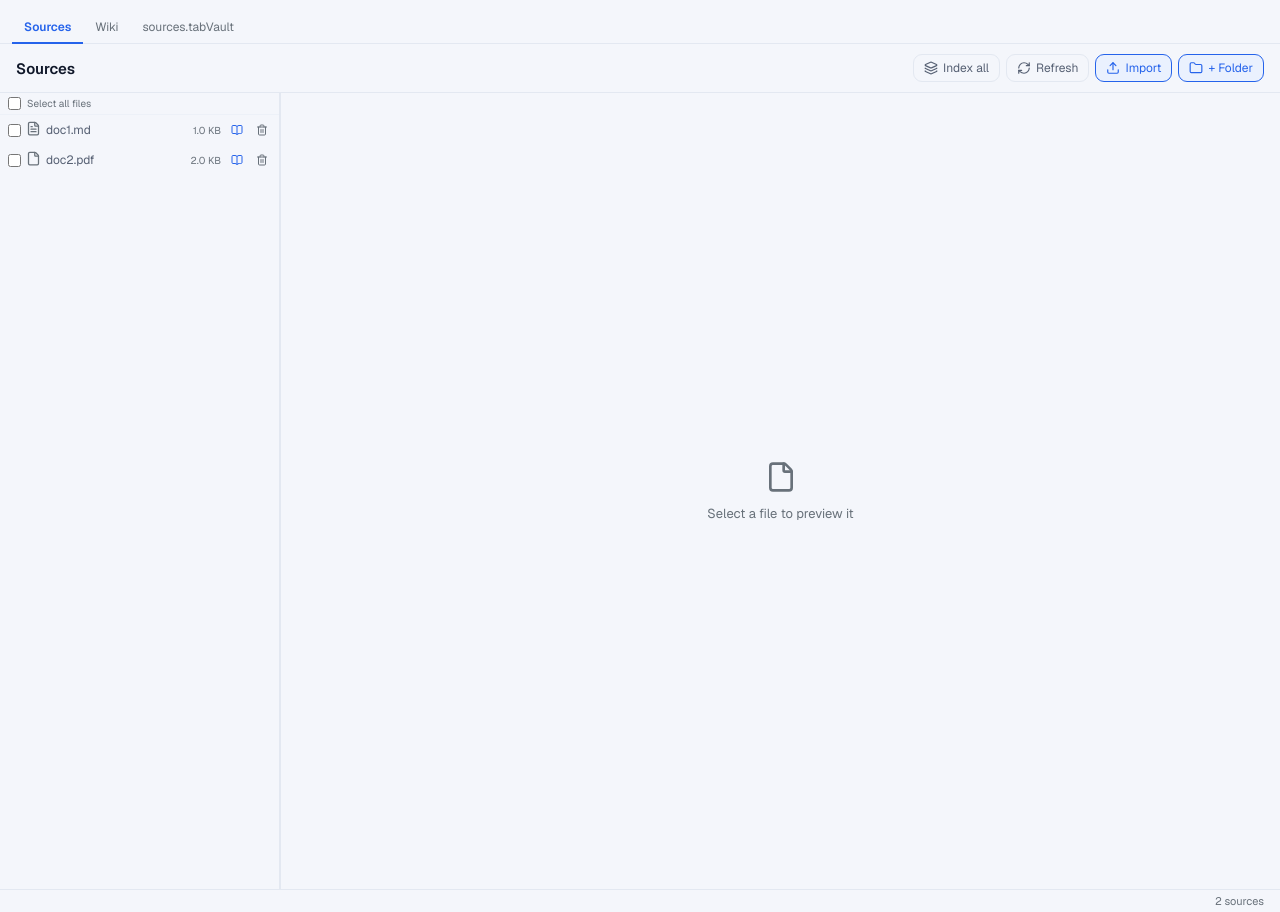
Test: SourcesView — R7-11 bulk multi-select (AC-R7-11-1) › hides bulk bar when selection is cleared
The image size is (1280, 912).
Click the 1st checkbox with test id "source-row-checkbox".
click(14, 130)  # box [8,124,21,136]
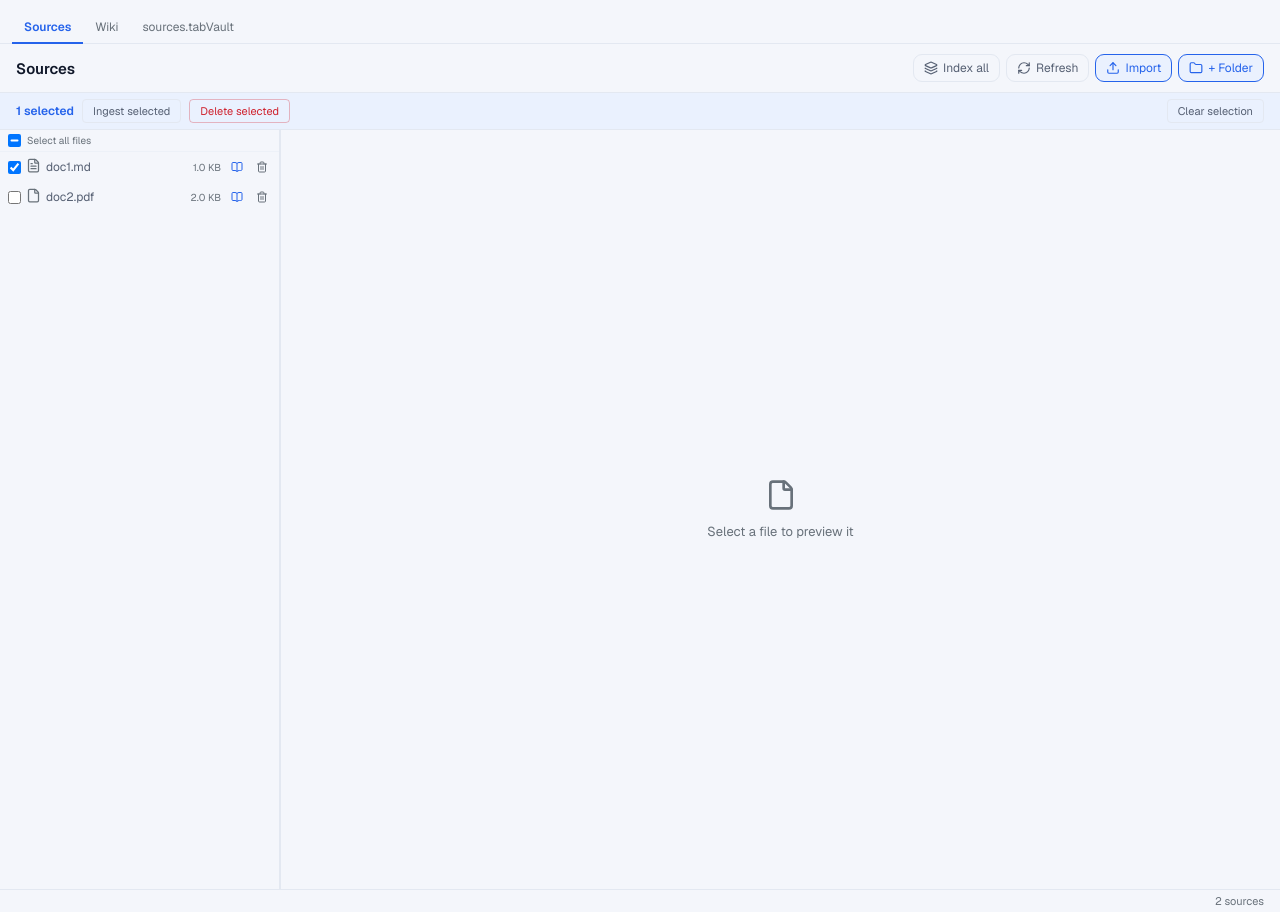
Expected: the element with test id "sources-bulk-bar" is shown, [0,93,1279,130]
Click the button "Clear selection".
click(1215, 111)  # box [1167,99,1264,123]
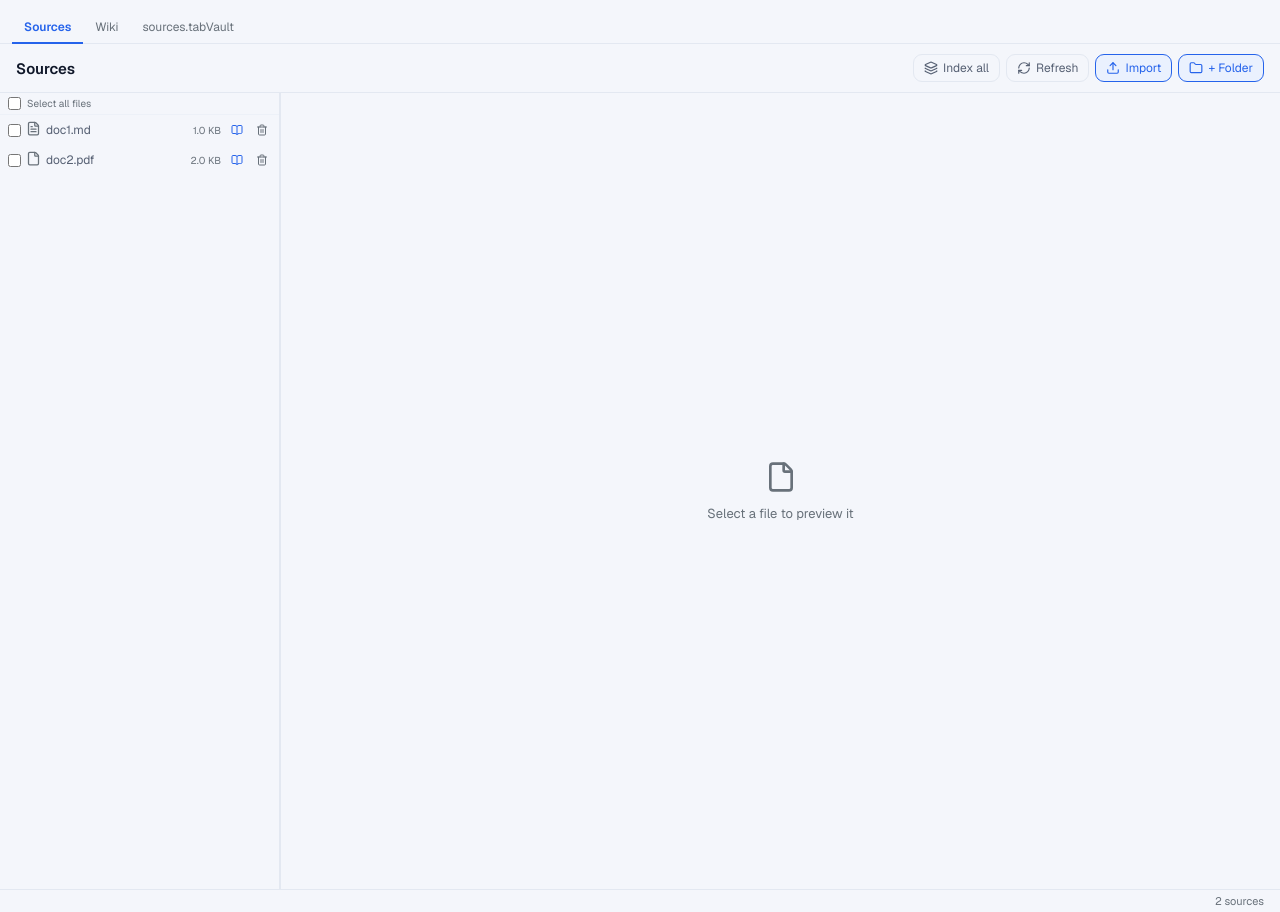
Expected: the element with test id "sources-bulk-bar" is gone
